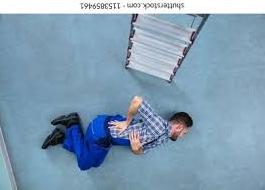fall: (39, 94, 197, 171)
